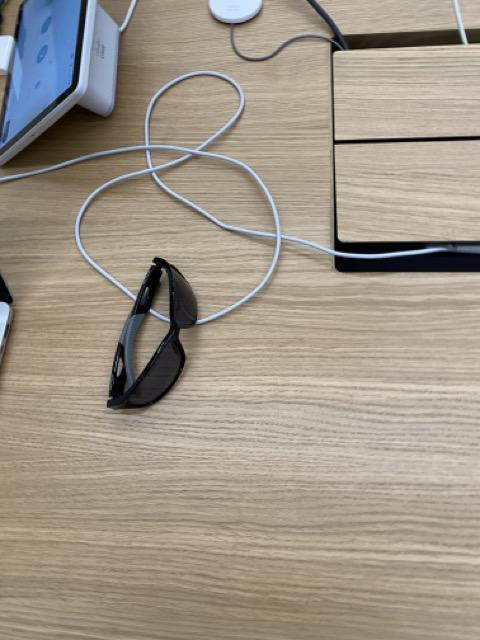Sunglasses: (106, 256, 198, 412)
